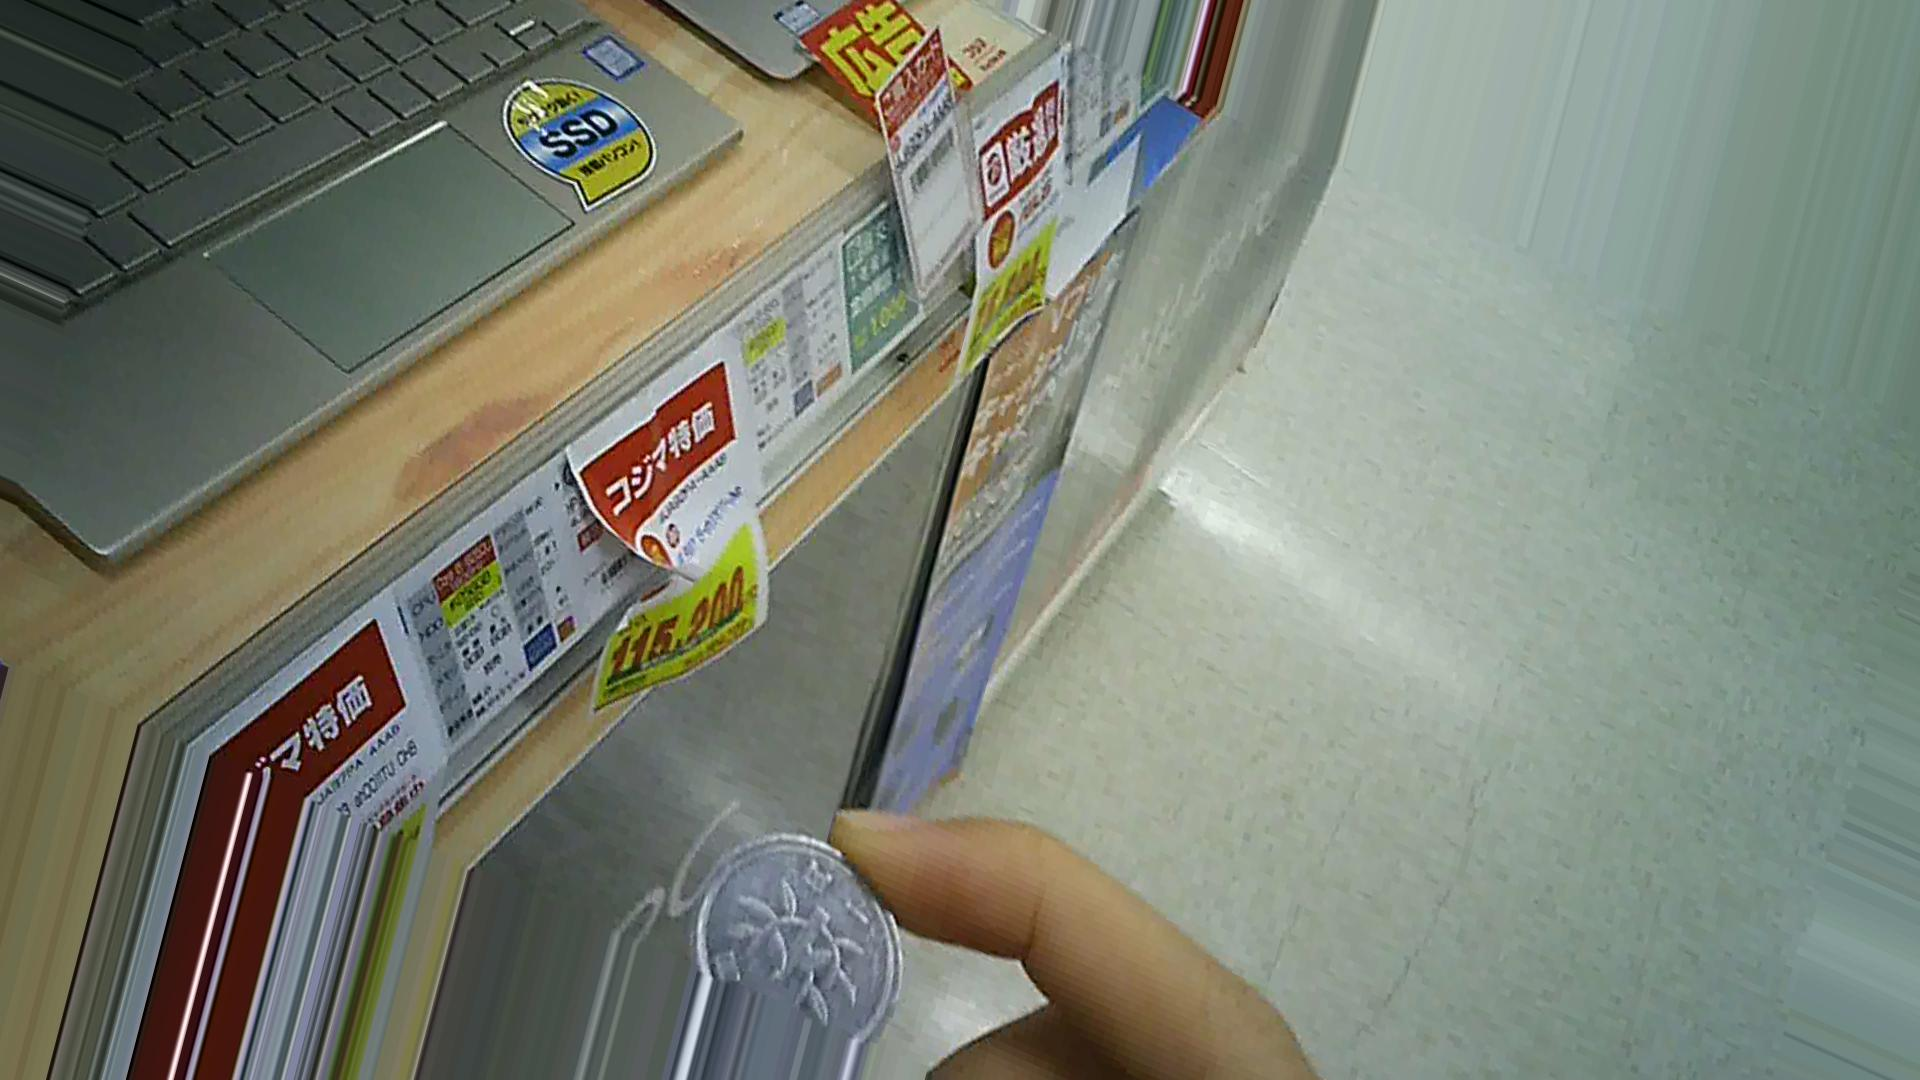1 Yen: (670, 827, 911, 1036)
